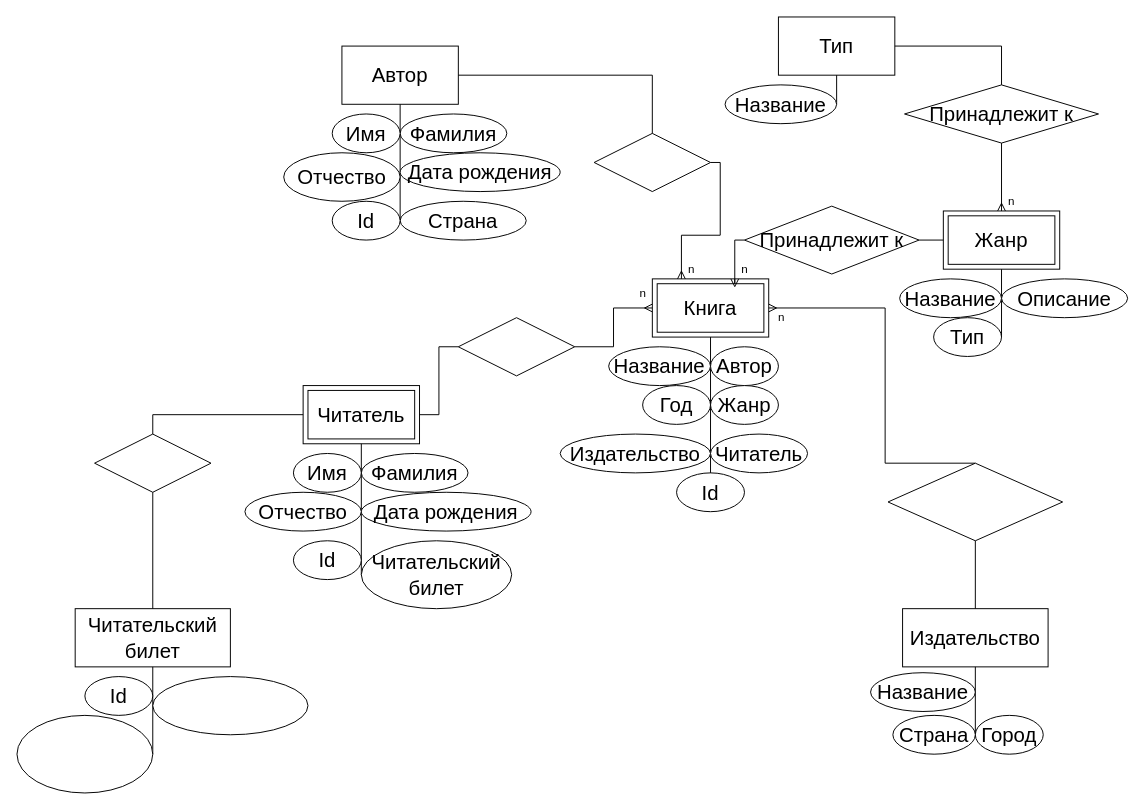
This 1145x810 diagram has some shape labels left out. The centre of each missing label's shape, as x and y in pixels:
Владеет: the point at 152,462
Дата истечения: the point at 230,705
Дата регистрации: the point at 84,753
Написана: the point at 652,162
Опубликована: the point at 975,501
Читается: the point at 516,346
